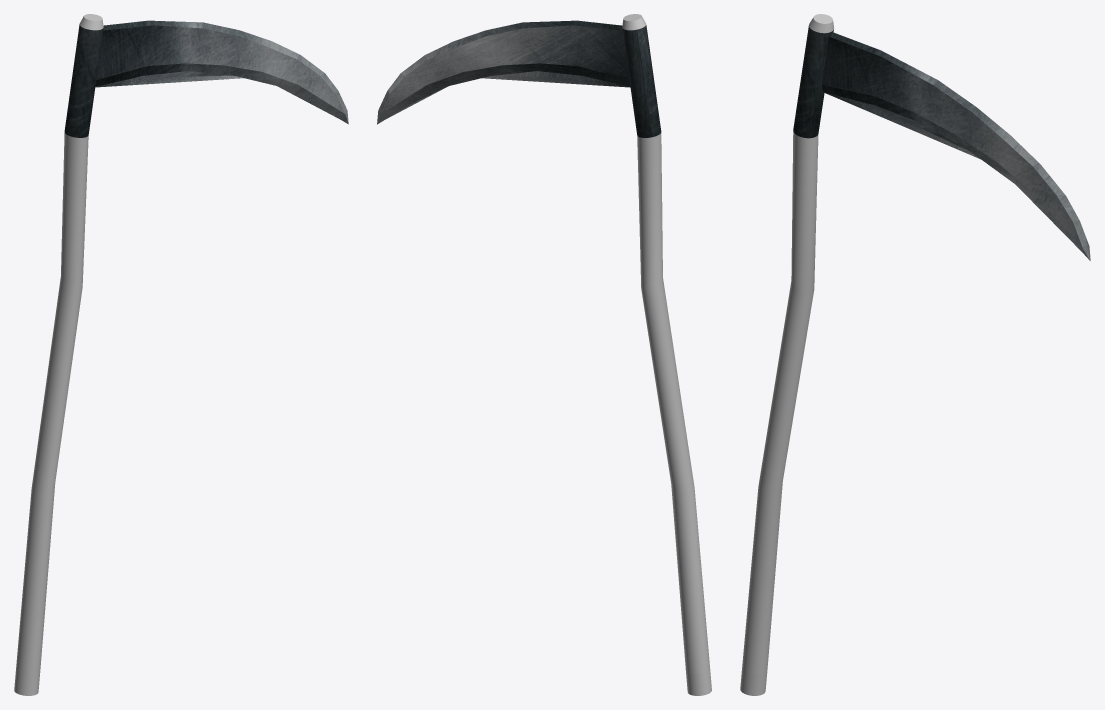
Rendered from Scythe.fbx.
3 views of the same model, side by side, from view 1: azimuth 30°, elevation 25°; view 2: azimuth 150°, elevation 25°; view 3: azimuth 330°, elevation 25° (orthographic). The views are drawn at different scales.
Parts seen in each view (by area): view 1: Cylinder, Vert.001, Cylinder.001; view 2: Cylinder, Vert.001, Cylinder.001; view 3: Vert.001, Cylinder, Cylinder.001.
Boxes of the visible parts, x1=… form: Cylinder: x1=14, y1=14, x2=103, y2=695; Vert.001: x1=95, y1=20, x2=348, y2=124; Cylinder.001: x1=64, y1=24, x2=103, y2=137; Cylinder: x1=622, y1=14, x2=711, y2=695; Vert.001: x1=377, y1=20, x2=630, y2=124; Cylinder.001: x1=622, y1=25, x2=661, y2=137; Vert.001: x1=821, y1=32, x2=1090, y2=260; Cylinder: x1=740, y1=14, x2=834, y2=695; Cylinder.001: x1=793, y1=26, x2=833, y2=138.
Size of the model in its own units: 235 by 445 by 16.41.
